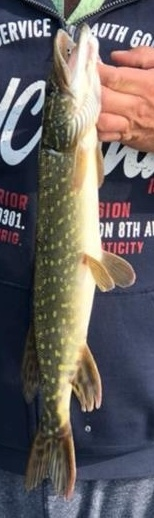Esox lucius: (20, 20, 134, 498)
